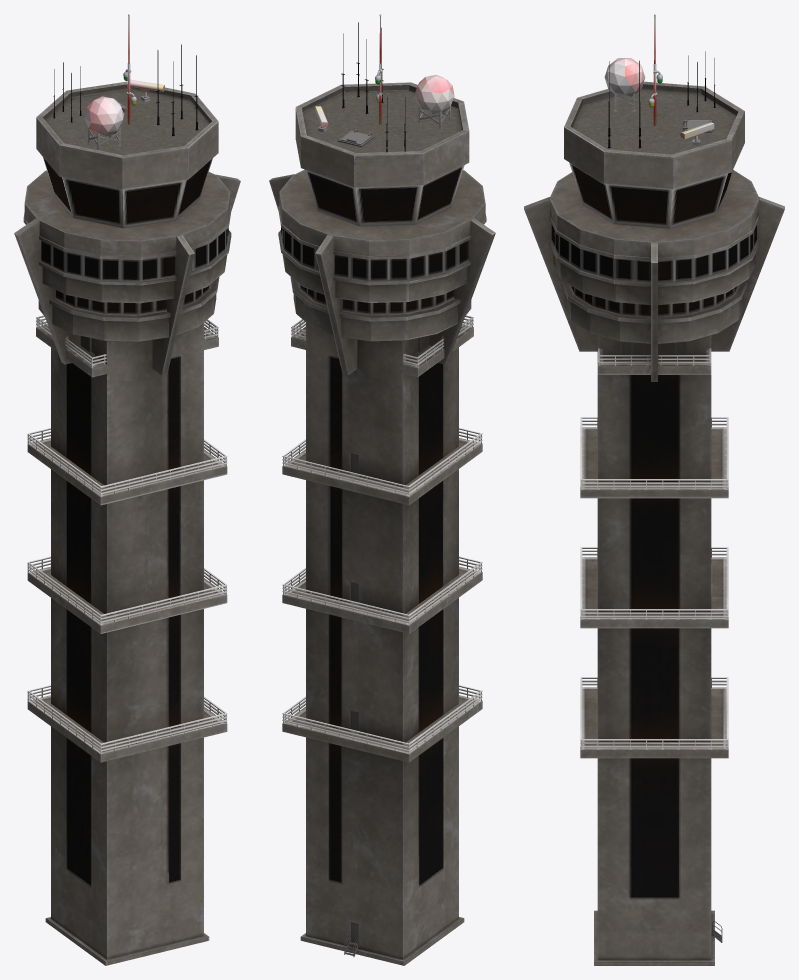
File: af_atc.glb
The picture shows the model from 3 angles, left to right: view 1: azimuth 30°, elevation 25°; view 2: azimuth 150°, elevation 25°; view 3: azimuth 270°, elevation 25°; orthographic projection.
Parts seen in each view (by area): view 1: body|AirTower01MAT; view 2: body|AirTower01MAT; view 3: body|AirTower01MAT.
Part boxes in pixels (left/top/right/bottom): body|AirTower01MAT: left=14, top=14, right=240, bottom=965; body|AirTower01MAT: left=269, top=14, right=495, bottom=965; body|AirTower01MAT: left=524, top=14, right=784, bottom=965.
Bounding box in the file's own units: 9.2 × 36.07 × 9.2.
1 material, 1 textured.
